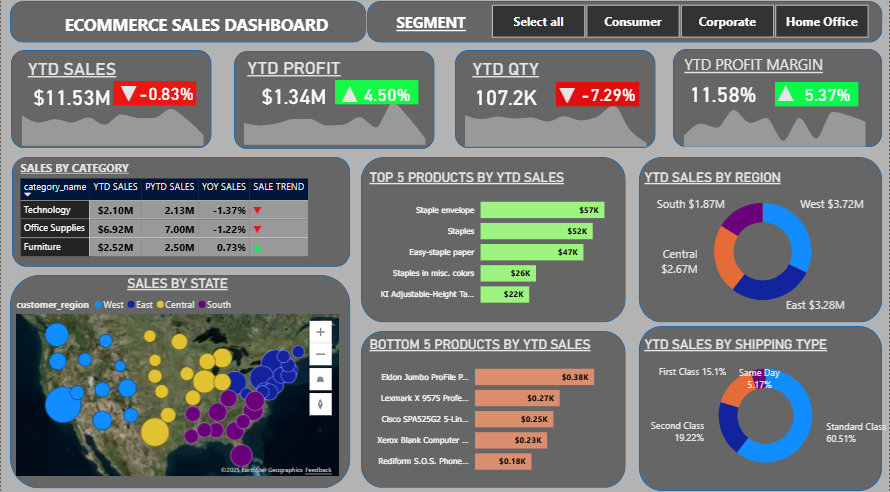

What the dashboard file says about the page in this screenshot:
{"tool":"powerbi","page":{"name":"Page 1","canvas":[1280,720],"ordinal":0},"visuals":[{"type":"shape","box":[527.1,7.7,742.2,59.9],"z":0},{"type":"shape","box":[918.7,475.2,349.9,237.6],"z":1000},{"type":"shape","box":[12.3,7.7,513.2,59.9],"z":2000},{"type":"textbox","box":[16.5,18,531,49.6],"z":3000},{"type":"shape","box":[14.6,77.3,288.7,141.4],"z":4000},{"type":"card","title":"YTD SALES","fields":{"Values":["ecommerce_data.YTD SALES"]},"box":[14.4,89.3,175.7,80.6],"z":5000},{"type":"areaChart","fields":{"Category":["CALENDAR TABLE.MONTH"],"Y":["Sum(ecommerce_data.sales_per_order)"]},"box":[16.5,139.9,290.3,81.2],"z":6000},{"type":"shape","box":[161.8,122.5,119.5,35],"z":7000},{"type":"card","fields":{"Values":["ecommerce_data.YOY SALES"]},"box":[191,122.5,93.3,33.5],"z":8000},{"type":"card","fields":{"Values":["ecommerce_data.sales icon"]},"box":[161.8,122.5,45.2,33.5],"z":9000},{"type":"shape","box":[335.1,78.5,288.7,141.4],"z":10000},{"type":"card","title":"YTD PROFIT","fields":{"Values":["ecommerce_data.YTD PROFIT"]},"box":[339.8,89.3,151.2,67.7],"z":11000},{"type":"areaChart","fields":{"Category":["CALENDAR TABLE.MONTH"],"Y":["Sum(ecommerce_data.profit_per_order)"]},"box":[335.6,138.2,290.3,81.2],"z":12000},{"type":"shape","box":[480.9,120.8,119.5,35],"z":13000},{"type":"card","fields":{"Values":["ecommerce_data.YOY PROFIT"]},"box":[510.3,123.9,93.3,33.5],"z":14000},{"type":"card","fields":{"Values":["ecommerce_data.PROFIT icon"]},"box":[479.6,123.9,45.2,33.5],"z":15000},{"type":"shape","box":[653.1,77.3,288.7,141.4],"z":16000},{"type":"areaChart","fields":{"Category":["CALENDAR TABLE.MONTH"],"Y":["Sum(ecommerce_data.order_quantity)"]},"box":[653.4,141.1,290.3,81.2],"z":17000},{"type":"shape","box":[798.7,123.7,119.5,35],"z":18000},{"type":"card","fields":{"Values":["ecommerce_data.YOY QTY"]},"box":[827.9,123.7,93.3,33.5],"z":19000},{"type":"card","fields":{"Values":["ecommerce_data.QTY icon"]},"box":[784.3,125.4,61.2,33.5],"z":20000},{"type":"card","title":"YTD QTY","fields":{"Values":["ecommerce_data.YTD QTY"]},"box":[640,88.9,174.9,80.2],"z":21000},{"type":"shape","box":[15.4,232,487.1,158.3],"z":22000},{"type":"pivotTable","fields":{"Rows":["ecommerce_data.category_name"],"Values":["ecommerce_data.YTD SALES","ecommerce_data.PYTD SALES","ecommerce_data.YOY SALES","ecommerce_data.sales icon"]},"box":[23,258.2,456.4,132.1],"z":23000},{"type":"textbox","box":[22.9,232.4,185,33.6],"z":24000},{"type":"shape","box":[968.1,76.8,301.2,141.4],"z":25000},{"type":"areaChart","fields":{"Category":["CALENDAR TABLE.MONTH"],"Y":["ecommerce_data.PROFIT MARGIN"]},"box":[968.7,141.1,290.3,81.2],"z":26000},{"type":"shape","box":[1114,123.6,119.5,35],"z":27000},{"type":"card","fields":{"Values":["ecommerce_data.YOY PROFIT MARGIN"]},"box":[1143.1,123.6,93.3,33.5],"z":28000},{"type":"card","fields":{"Values":["ecommerce_data.YTD PROFIT MARGIN ICON"]},"box":[1100.2,115.2,59.9,47.6],"z":29000},{"type":"card","title":"YTD QTY","fields":{"Values":["ecommerce_data.YTD PROFIT MARGIN"]},"box":[978.6,100,120.8,80.6],"z":30000},{"type":"textbox","box":[979.2,79.2,257.8,41.8],"z":31000},{"type":"shape","box":[12.3,401.1,490.2,307.3],"z":32000},{"type":"shape","box":[517.8,232,381.1,238.2],"z":33000},{"type":"shape","box":[517.8,482.5,381.1,225.9],"z":34000},{"type":"barChart","title":"TOP 5 PRODUCTS BY YTD SALES","fields":{"Category":["ecommerce_data.product_name"],"Y":["ecommerce_data.YTD SALES"]},"box":[525.5,248.9,393.4,210.5],"z":35000},{"type":"barChart","title":"BOTTOM 5 PRODUCTS BY YTD SALES","fields":{"Category":["ecommerce_data.product_name"],"Y":["ecommerce_data.YTD SALES"]},"box":[525.5,490.2,373.4,210.5],"z":36000},{"type":"shape","box":[918.9,232,350.3,238.2],"z":37000},{"type":"donutChart","title":"YTD SALES BY REGION","fields":{"Y":["ecommerce_data.YTD SALES"],"Category":["ecommerce_data.customer_region"]},"box":[922,248.9,350.3,215.1],"z":38000},{"type":"donutChart","title":"YTD SALES BY SHIPPING TYPE","fields":{"Category":["ecommerce_data.shipping_type"],"Y":["ecommerce_data.YTD SALES"]},"box":[921.6,489.6,358.6,207.4],"z":39000},{"type":"azureMap","title":"SALES BY STATE","fields":{"Y":["us_state_long_lat_codes.latitude"],"X":["us_state_long_lat_codes.longitude"],"Size":["ecommerce_data.YTD SALES"],"Series":["ecommerce_data.customer_region"]},"box":[17.3,401.8,473.8,295.2],"z":40000},{"type":"slicer","fields":{"Values":["ecommerce_data.customer_segment"]},"box":[680.7,6.1,591.6,61.5],"z":41000},{"type":"textbox","box":[559.3,18.4,121.4,38.4],"z":42000}]}

Visuals, with their boxes in screenshot pixels (x1, y1, x2, y2), scaled from the page's 1280x720 canvas onto the 890x492 screenshot:
shape: box(366, 5, 883, 46)
shape: box(639, 325, 882, 487)
shape: box(9, 5, 365, 46)
textbox: box(11, 12, 381, 46)
shape: box(10, 53, 211, 149)
"YTD SALES" card: box(10, 61, 132, 116)
areaChart - CALENDAR TABLE.MONTH x Sum(ecommerce_data.sales_per_order): box(11, 96, 213, 151)
shape: box(113, 84, 196, 108)
card - ecommerce_data.YOY SALES: box(133, 84, 198, 107)
card - ecommerce_data.sales icon: box(113, 84, 144, 107)
shape: box(233, 54, 434, 150)
"YTD PROFIT" card: box(236, 61, 341, 107)
areaChart - CALENDAR TABLE.MONTH x Sum(ecommerce_data.profit_per_order): box(233, 94, 435, 150)
shape: box(334, 83, 417, 106)
card - ecommerce_data.YOY PROFIT: box(355, 85, 420, 108)
card - ecommerce_data.PROFIT icon: box(333, 85, 365, 108)
shape: box(454, 53, 655, 149)
areaChart - CALENDAR TABLE.MONTH x Sum(ecommerce_data.order_quantity): box(454, 96, 656, 152)
shape: box(555, 85, 638, 108)
card - ecommerce_data.YOY QTY: box(576, 85, 641, 107)
card - ecommerce_data.QTY icon: box(545, 86, 588, 109)
"YTD QTY" card: box(445, 61, 567, 116)
shape: box(11, 159, 349, 267)
pivotTable - ecommerce_data.category_name x ecommerce_data.YTD SALES: box(16, 176, 333, 267)
textbox: box(16, 159, 145, 182)
shape: box(673, 52, 883, 149)
areaChart - CALENDAR TABLE.MONTH x ecommerce_data.PROFIT MARGIN: box(674, 96, 875, 152)
shape: box(775, 84, 858, 108)
card - ecommerce_data.YOY PROFIT MARGIN: box(795, 84, 860, 107)
card - ecommerce_data.YTD PROFIT MARGIN ICON: box(765, 79, 807, 111)
"YTD QTY" card: box(680, 68, 764, 123)
textbox: box(681, 54, 860, 83)
shape: box(9, 274, 349, 484)
shape: box(360, 159, 625, 321)
shape: box(360, 330, 625, 484)
"TOP 5 PRODUCTS BY YTD SALES" barChart: box(365, 170, 639, 314)
"BOTTOM 5 PRODUCTS BY YTD SALES" barChart: box(365, 335, 625, 479)
shape: box(639, 159, 882, 321)
"YTD SALES BY REGION" donutChart: box(641, 170, 885, 317)
"YTD SALES BY SHIPPING TYPE" donutChart: box(641, 335, 889, 476)
"SALES BY STATE" azureMap: box(12, 275, 341, 476)
slicer - ecommerce_data.customer_segment: box(473, 4, 885, 46)
textbox: box(389, 13, 473, 39)
